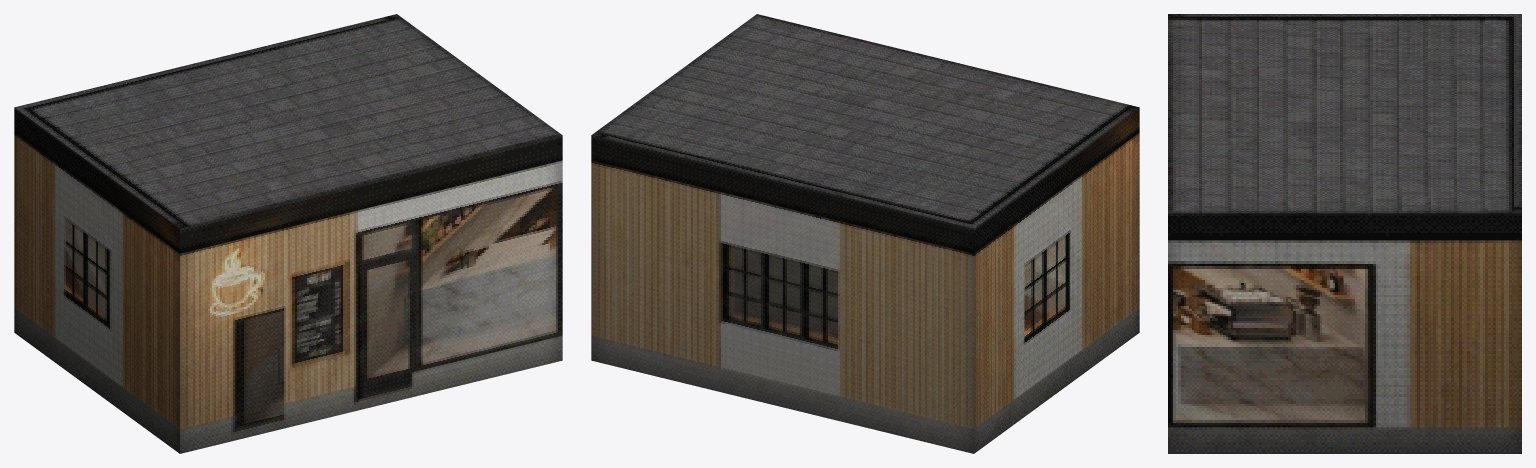
Rendered from espresso.glb.
3 renders of one model, left to right at view 1: azimuth 30°, elevation 25°; view 2: azimuth 150°, elevation 25°; view 3: azimuth 270°, elevation 25°, orthographic. The views are drawn at different scales.
Parts seen in each view (by area): view 1: Modern Scandinavian Espresso; view 2: Modern Scandinavian Espresso; view 3: Modern Scandinavian Espresso.
Part boxes in pixels (x1=…): Modern Scandinavian Espresso: x1=14, y1=14, x2=562, y2=453; Modern Scandinavian Espresso: x1=591, y1=14, x2=1139, y2=453; Modern Scandinavian Espresso: x1=1168, y1=14, x2=1521, y2=453.
Bounding box in the file's own units: 8 × 4.5 × 6.
1 material, 1 textured.
